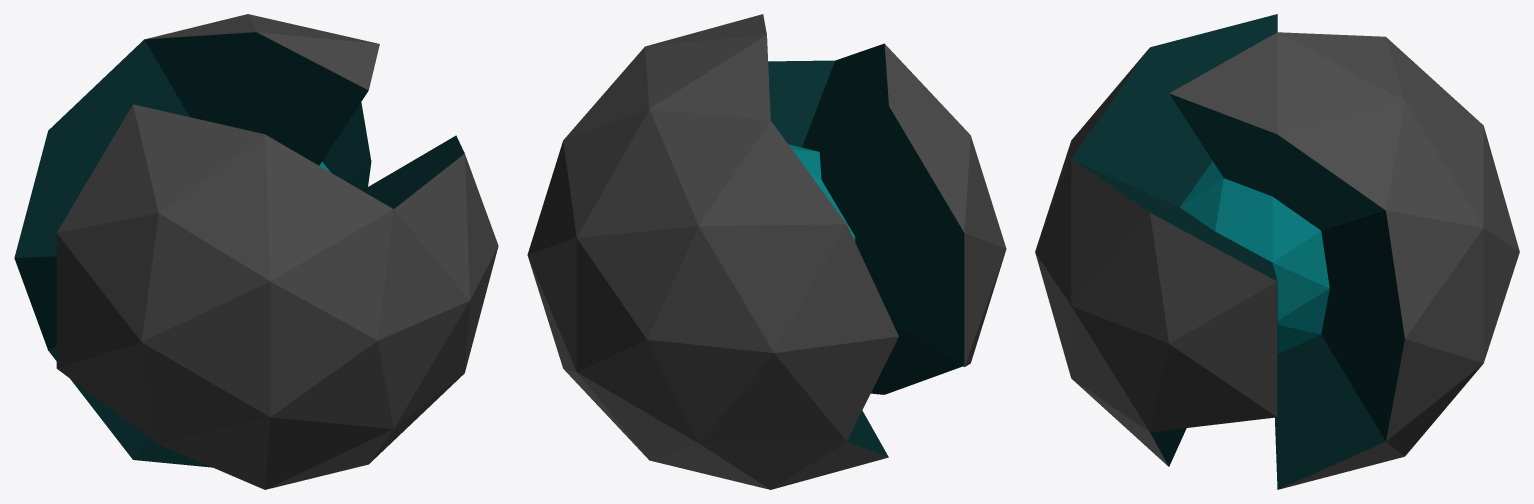
File: Meteor 4.fbx
3 renders of one model, left to right at view 1: azimuth 30°, elevation 25°; view 2: azimuth 150°, elevation 25°; view 3: azimuth 270°, elevation 25°, orthographic.
Visible parts, largest first — view 1: Icosphere; view 2: Icosphere; view 3: Icosphere.
Part boxes in pixels (bbox=[...]): Icosphere: bbox=[14, 14, 498, 489]; Icosphere: bbox=[527, 14, 1006, 489]; Icosphere: bbox=[1035, 14, 1519, 489].
Bounding box in the file's own units: 190 × 200 × 200.
